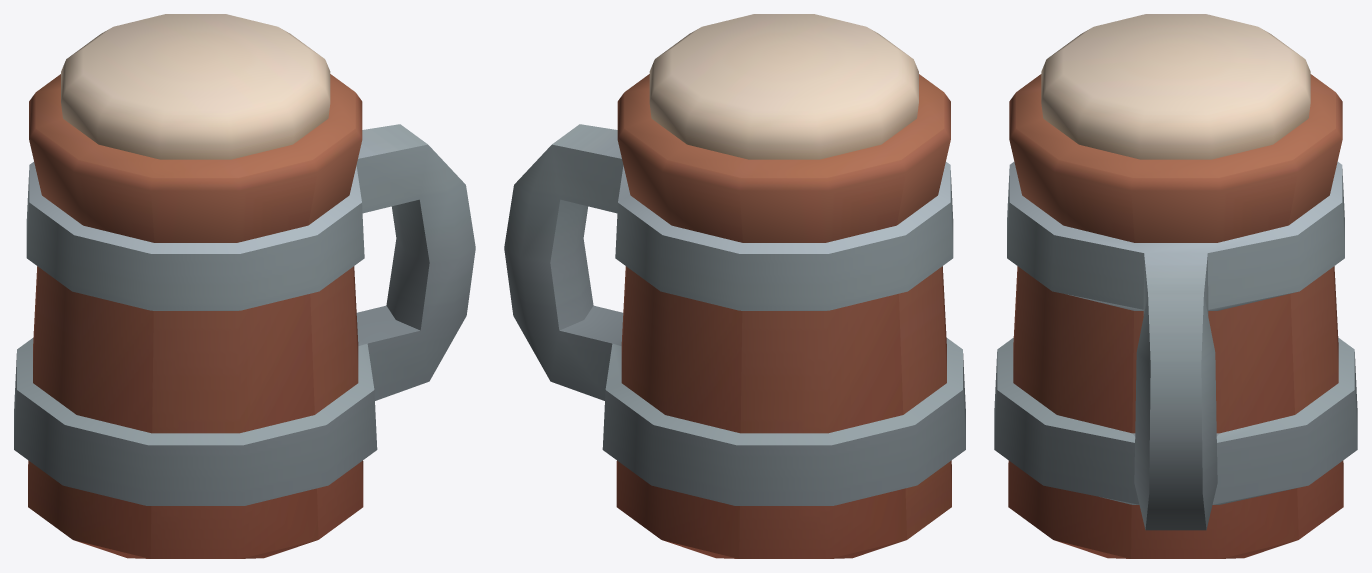
The model's file is mug-001.glb.
The picture shows the model from 3 angles, left to right: view 1: azimuth 30°, elevation 25°; view 2: azimuth 150°, elevation 25°; view 3: azimuth 270°, elevation 25°; orthographic projection.
Visible parts, largest first — view 1: mug_full; view 2: mug_full; view 3: mug_full.
Boxes of the visible parts, x1,y1,x2,y2 form: mug_full: (14, 14, 475, 558); mug_full: (504, 14, 965, 558); mug_full: (994, 14, 1357, 558).
Bounding box in the file's own units: 0.5342 × 0.5484 × 0.3959.
Materials: 1 (1 with a texture image).
